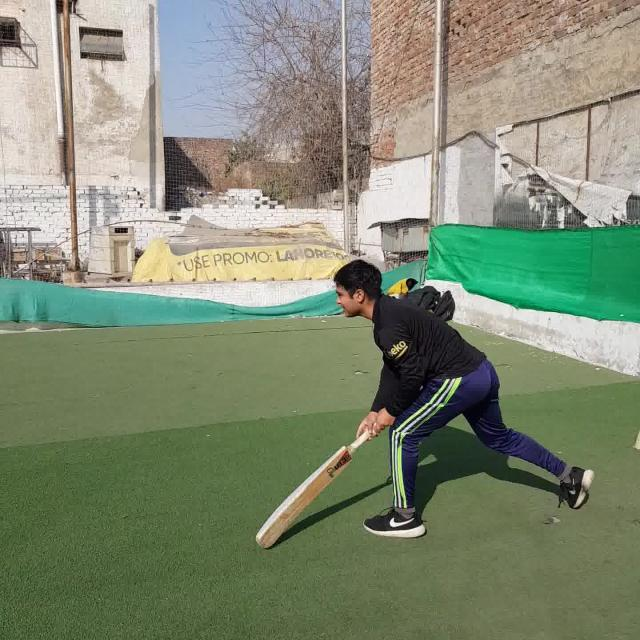bat: (255, 426, 377, 549)
